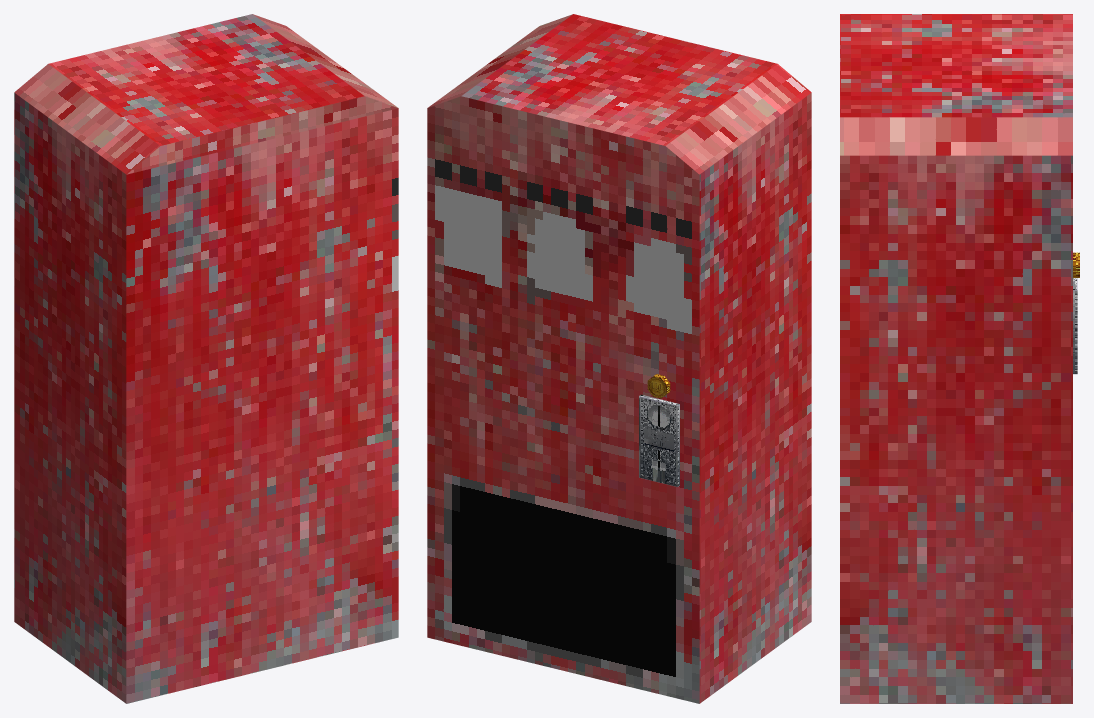
Rendered from VendingMachine.fbx.
3 renders of one model, left to right at view 1: azimuth 30°, elevation 25°; view 2: azimuth 150°, elevation 25°; view 3: azimuth 270°, elevation 25°, orthographic. The views are drawn at different scales.
Visible parts, largest first — view 1: cuboid; view 2: cuboid, cuboid_1; view 3: cuboid, cuboid_1.
Boxes of the visible parts, left/top/right/bottom form: cuboid: left=14, top=14, right=398, bottom=703; cuboid: left=427, top=14, right=811, bottom=703; cuboid_1: left=639, top=394, right=679, bottom=486; cuboid: left=840, top=14, right=1072, bottom=703; cuboid_1: left=1073, top=278, right=1077, bottom=374.
Size of the model in its own units: 43.75 by 84.38 by 32.19.
Materials: 3 (3 with a texture image).
